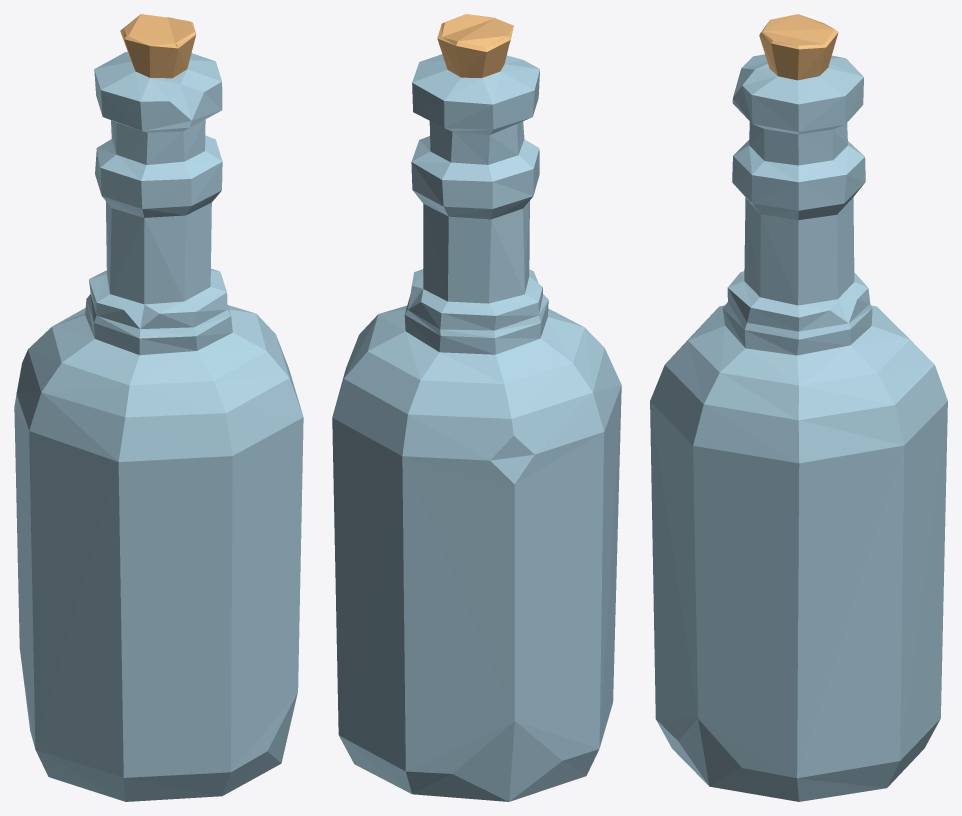
Rendered from SFHW_Bottle_Herbs_001.fbx.
3 views of the same model, side by side, from view 1: azimuth 30°, elevation 25°; view 2: azimuth 150°, elevation 25°; view 3: azimuth 270°, elevation 25° (orthographic).
Visible parts, largest first — view 1: SFHW_Bottle_Herbs_001; view 2: SFHW_Bottle_Herbs_001; view 3: SFHW_Bottle_Herbs_001.
Boxes of the visible parts, bbox=[...] form: SFHW_Bottle_Herbs_001: bbox=[14, 14, 303, 801]; SFHW_Bottle_Herbs_001: bbox=[332, 14, 621, 801]; SFHW_Bottle_Herbs_001: bbox=[650, 14, 947, 801].
Size of the model in its own units: 12.33 by 32.91 by 12.32.
